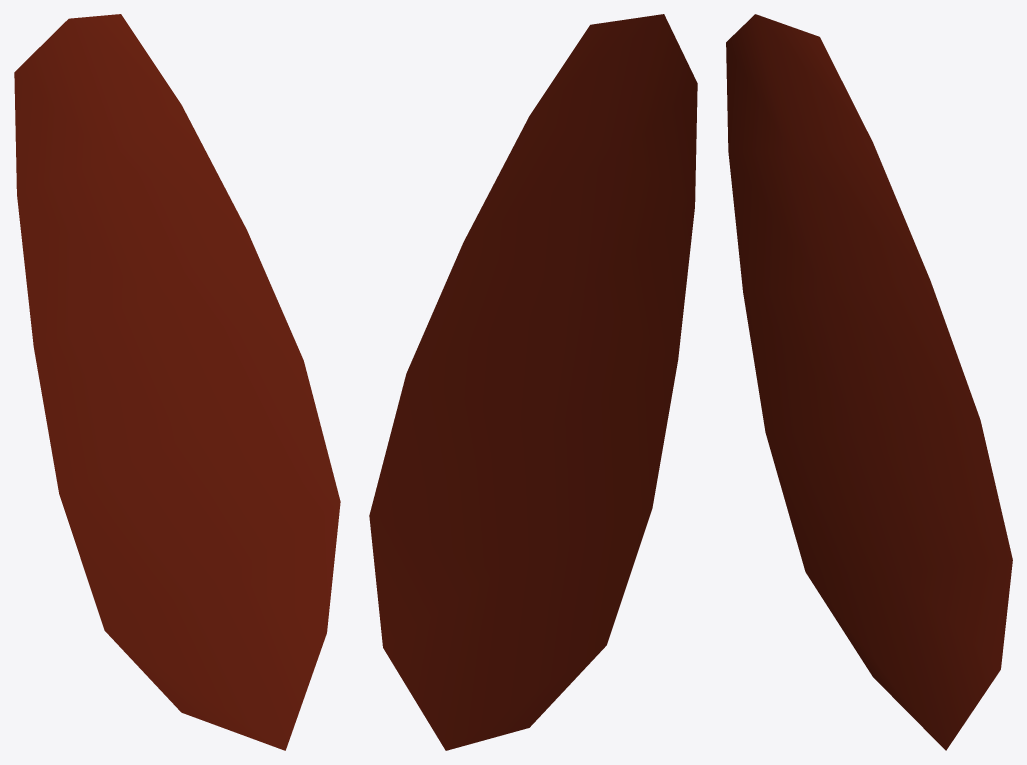
The model's file is pheasant_feather_flight_tertiary_029.obj.
3 views of the same model, side by side, from view 1: azimuth 30°, elevation 25°; view 2: azimuth 150°, elevation 25°; view 3: azimuth 330°, elevation 25° (orthographic). The views are drawn at different scales.
Parts seen in each view (by area): view 1: feather_flight_tertiary_029; view 2: feather_flight_tertiary_029; view 3: feather_flight_tertiary_029.
Part boxes in pixels (x1,y1,x2,y2): feather_flight_tertiary_029: (14,14,340,750); feather_flight_tertiary_029: (369,14,697,750); feather_flight_tertiary_029: (726,14,1012,750).
Size of the model in its own units: 0.0114 by 0.0261 by 0.000634.
